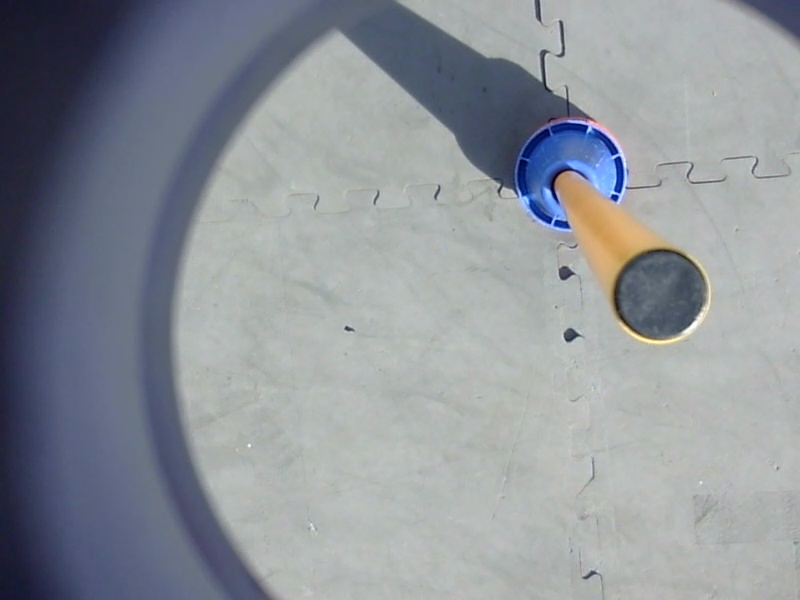tip: (606, 243, 716, 352)
